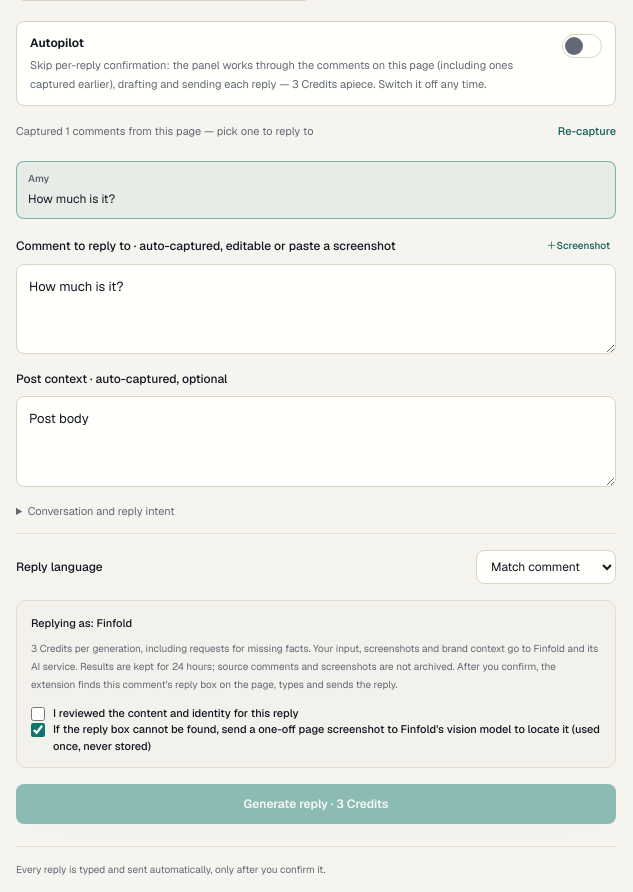
Test: falls back to vision locate and then copy when DOM send fails
The width and height of the screenshot is (633, 892).
(page scrolled)
Click the checkbox labelled "I reviewed the content and identity for this reply" at (38, 714), box [31,707,45,721]
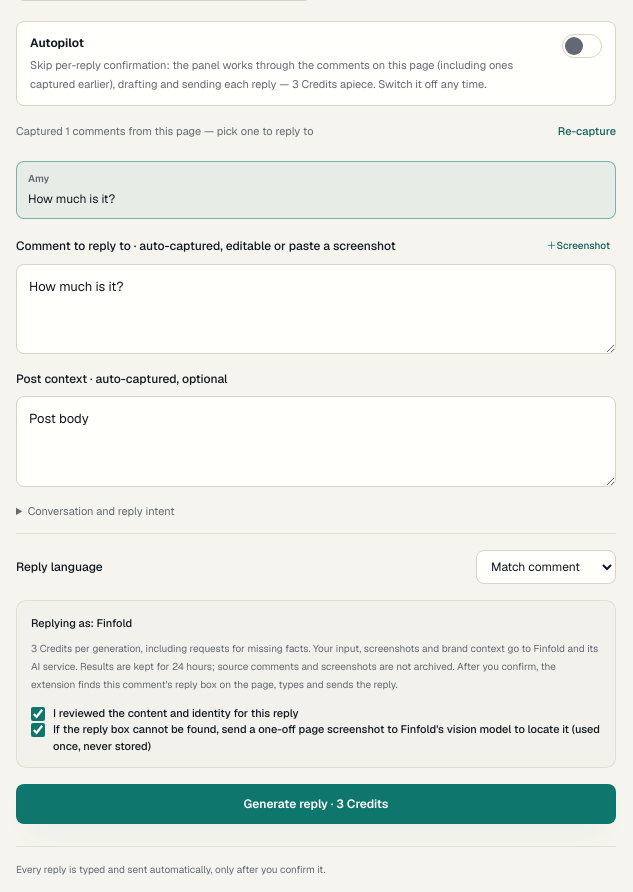
Click the button "Generate reply · 3 Credits" at (316, 804), box [16,784,616,824]
(page scrolled)
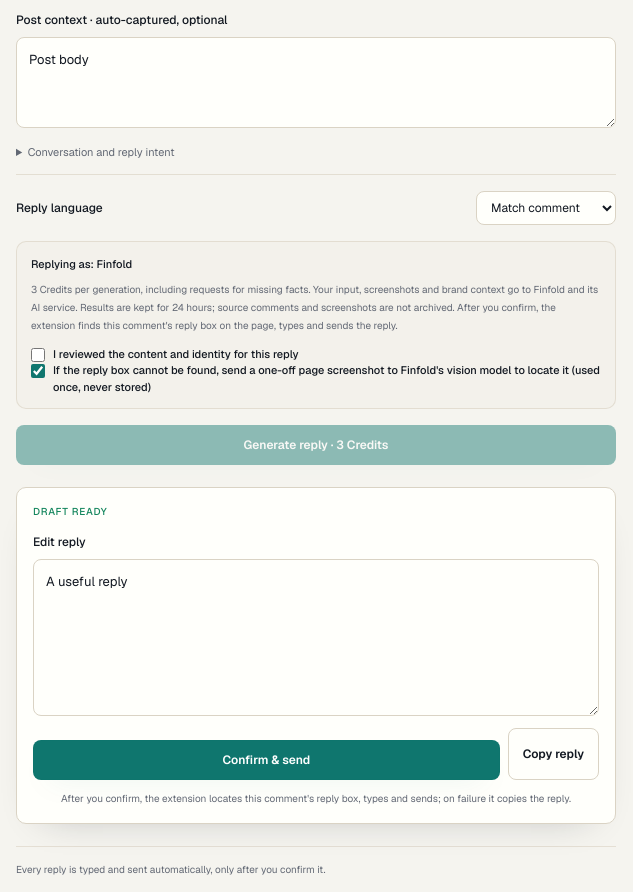
Click the button "Confirm & send" at (266, 760), box [33,740,500,780]
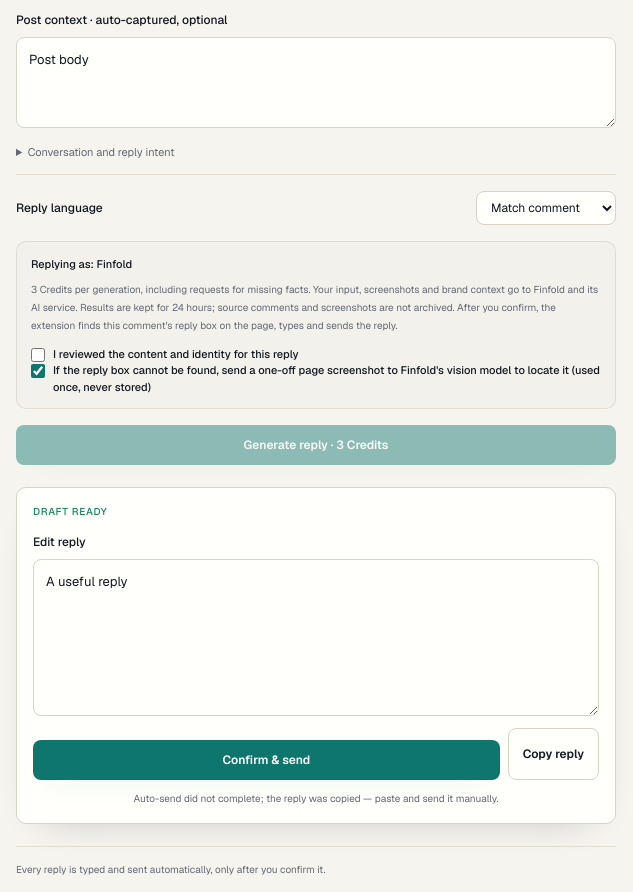
Result: the text "the reply was copied" is shown at [134,792,498,805]
